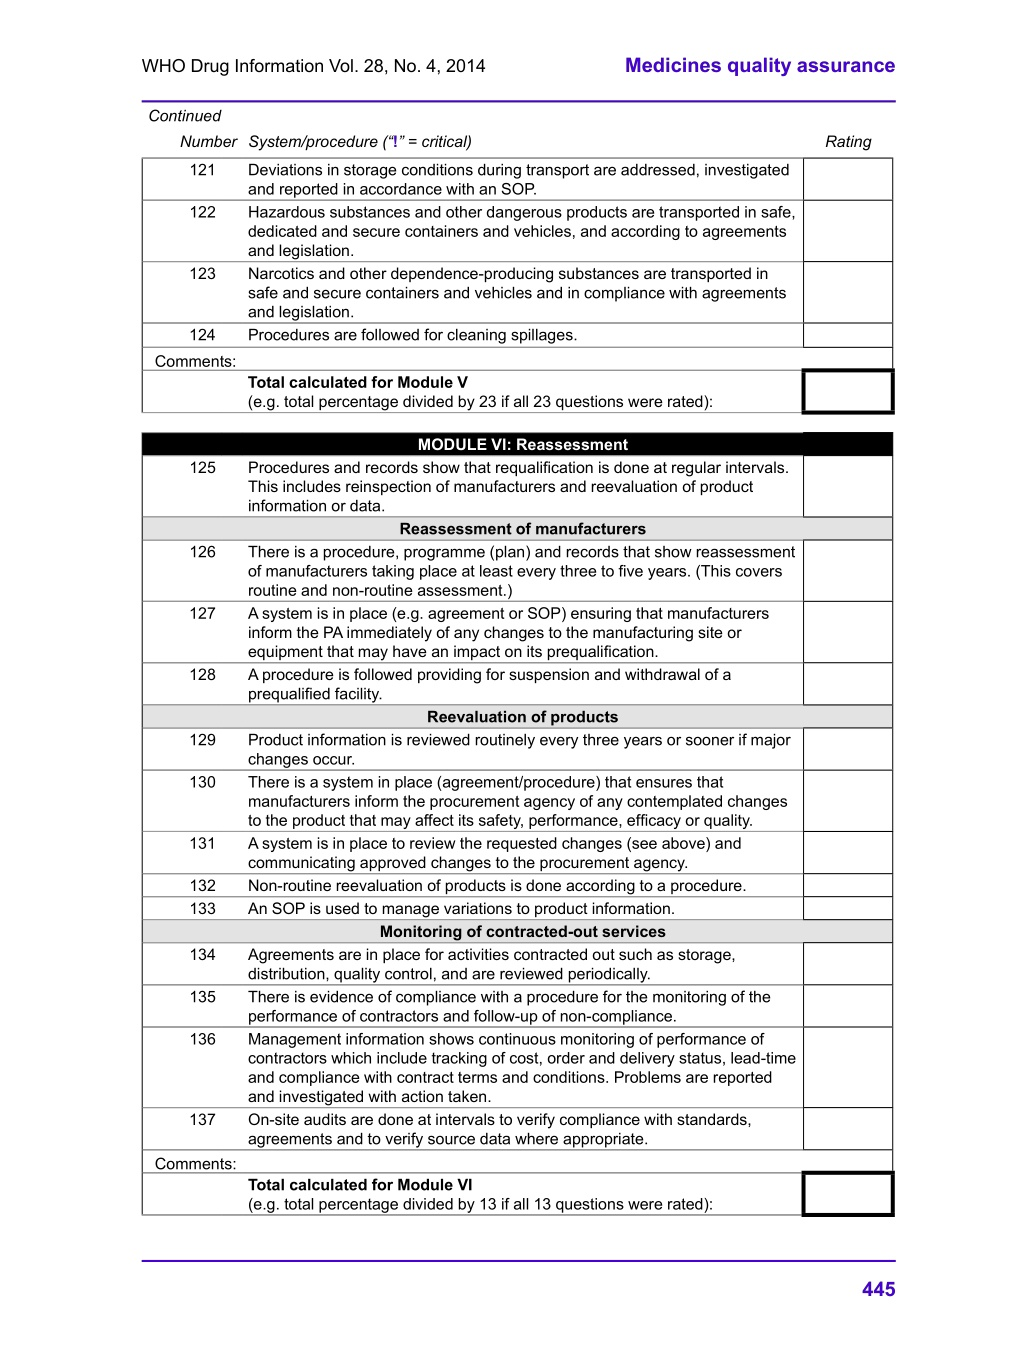partial_lined_merged_cells: (142, 432, 896, 1217), (140, 156, 896, 415)
